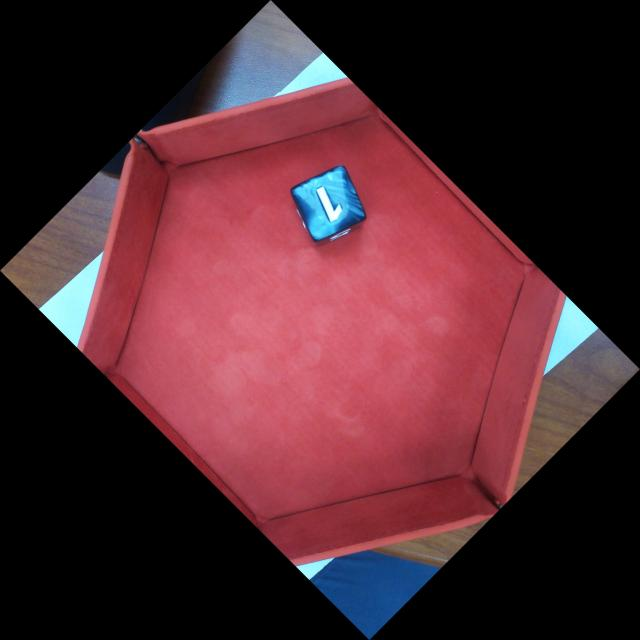dice: (289, 164, 367, 244)
